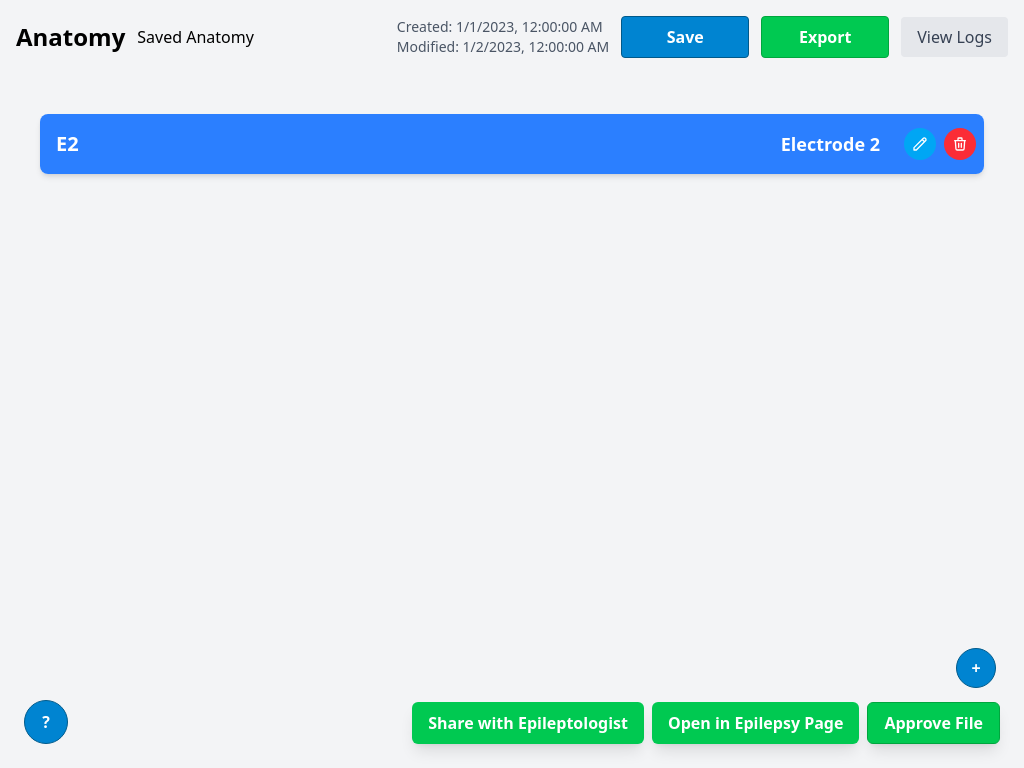
Test case: Localization Component › shows approval modal
Click the button that could be either "Submit Changes" or "Approve File"
Click the button "Approve File" at (934, 723), box top-left (868, 702), bottom-right (1000, 744)
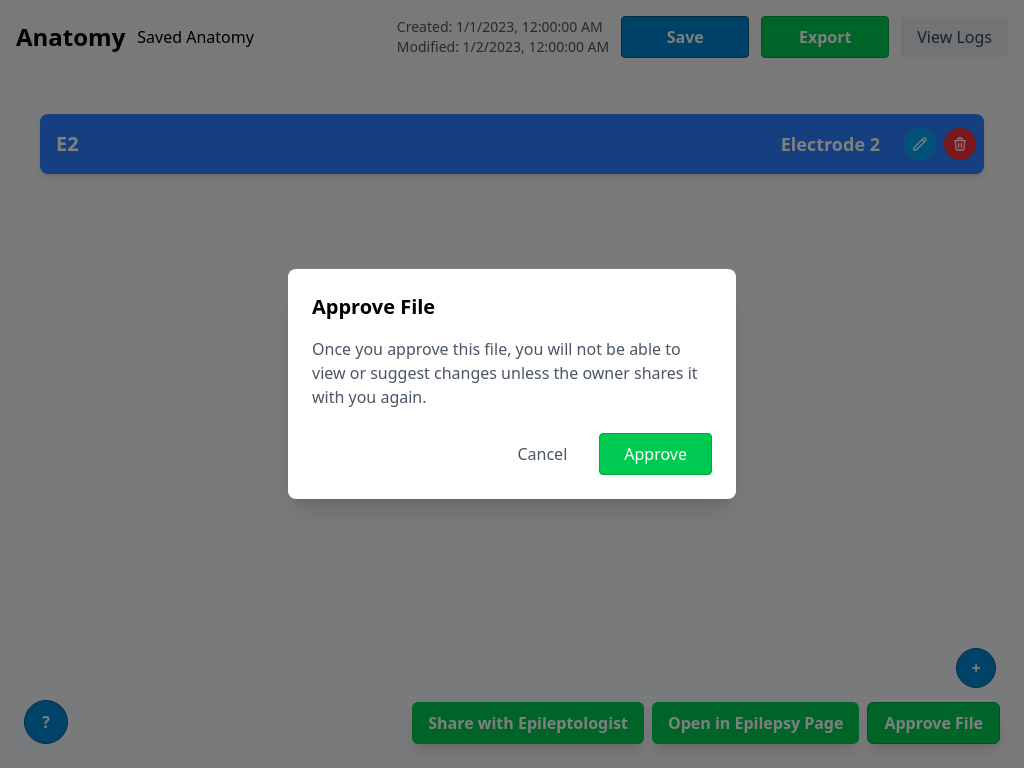
Check: the text "Once you approve this file, you will not be able to view or suggest changes unless the owner shares it with you again." is shown, box top-left (312, 338), bottom-right (698, 408)
